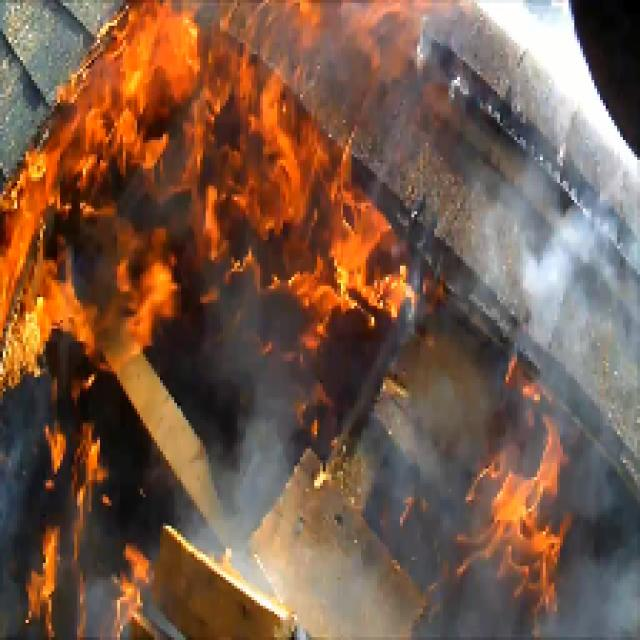fire: (113, 0, 428, 298), (5, 154, 96, 638), (462, 418, 562, 622)
